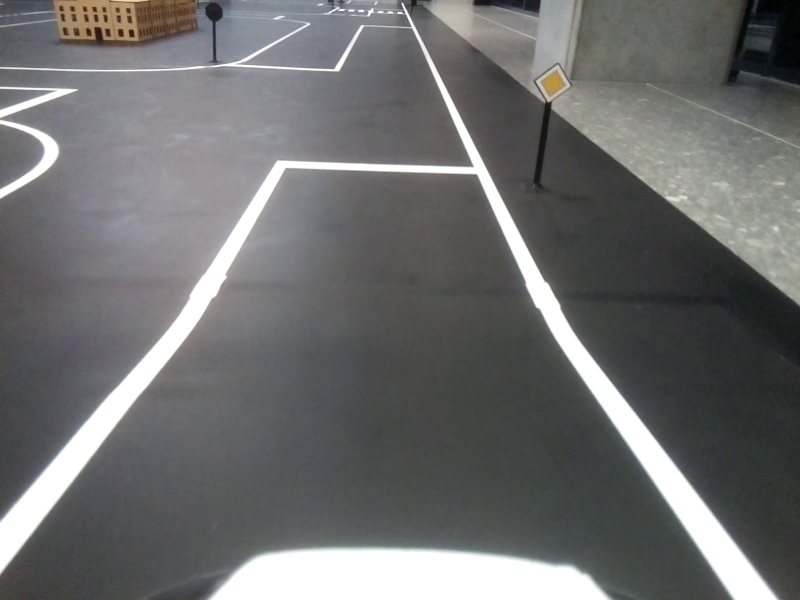priority: (531, 61, 570, 107)
